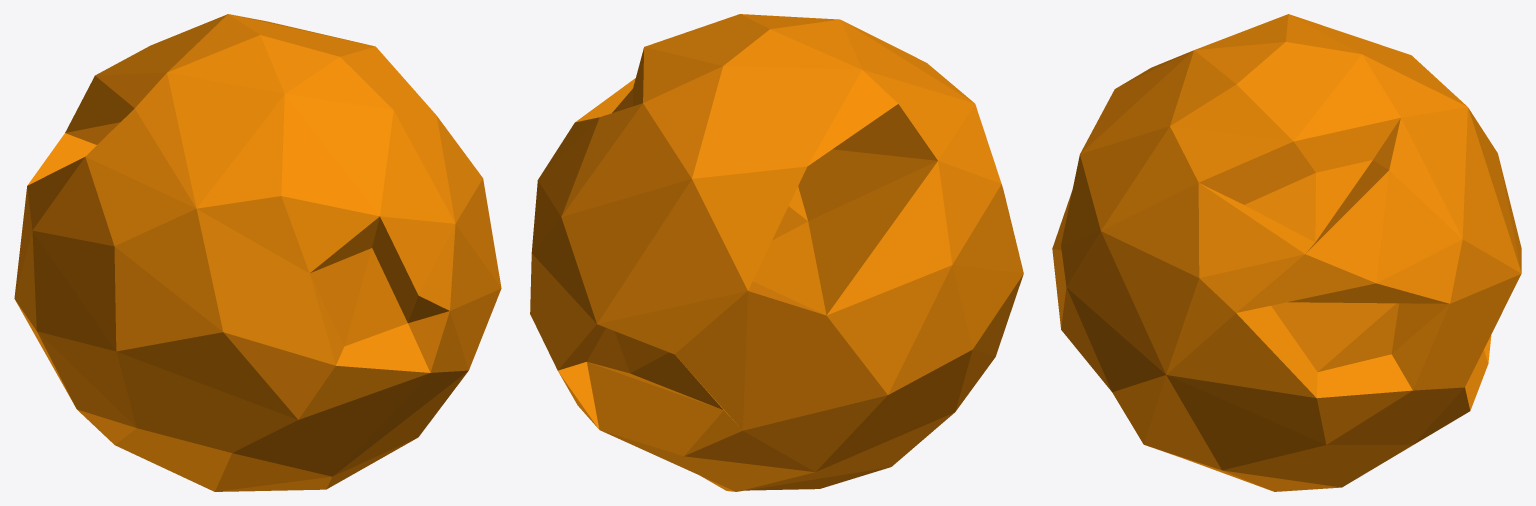
File: Planet12.glb
The picture shows the model from 3 angles, left to right: view 1: azimuth 30°, elevation 25°; view 2: azimuth 150°, elevation 25°; view 3: azimuth 270°, elevation 25°; orthographic projection. The views are drawn at different scales.
Parts seen in each view (by area): view 1: Planet12; view 2: Planet12; view 3: Planet12.
Part boxes in pixels (x1,y1,x2,y2): Planet12: (14, 14, 501, 491); Planet12: (530, 14, 1023, 491); Planet12: (1052, 14, 1521, 491).
Bounding box in the file's own units: 8.8 × 8.88 × 8.91.
Materials: 1 (1 with a texture image).
